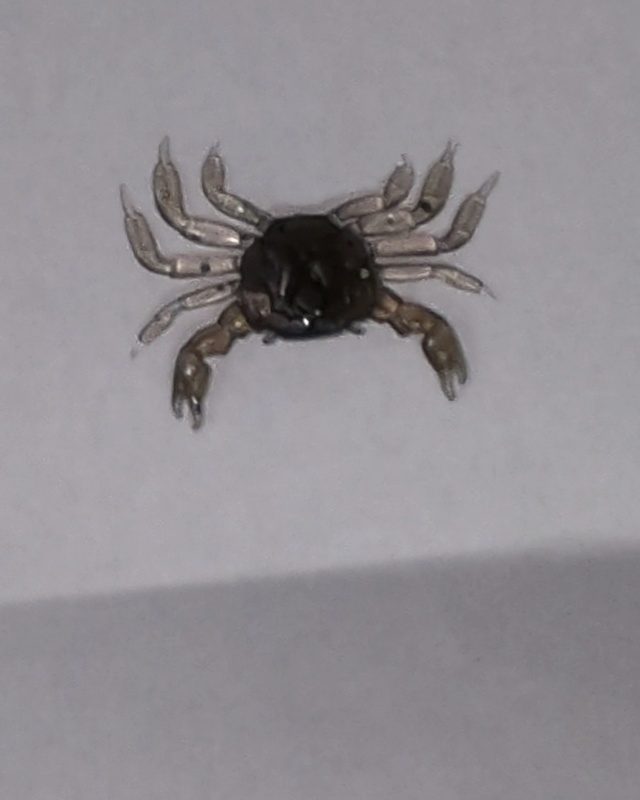crab1: (114, 135, 511, 434)
